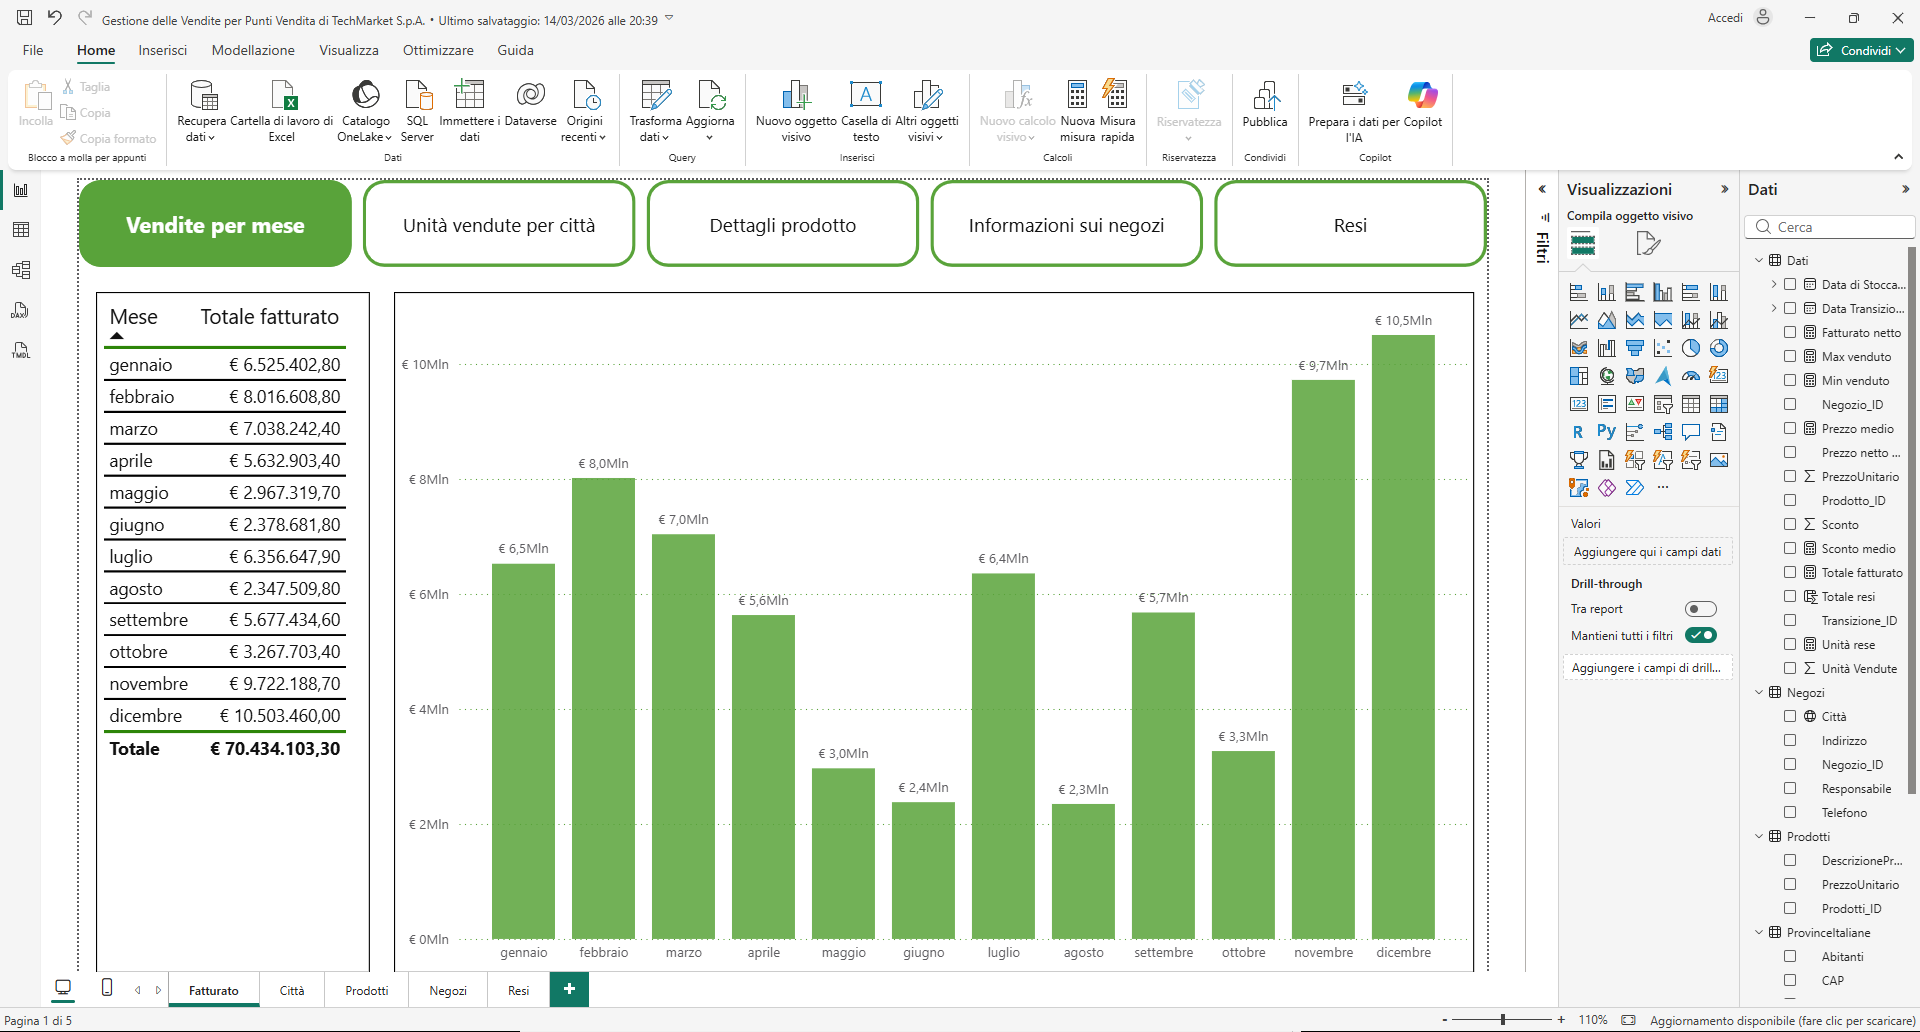

Layout of this report page (visuals, bound fields, positions):
{"tool":"powerbi","page":{"name":"Fatturato","canvas":[1280,720],"ordinal":0},"visuals":[{"type":"tableEx","fields":{"Values":["Dati.Data Transizione.Variazione.Gerarchia data.Mese","Dati.Tot venduto"]},"box":[15.3,101.6,249,619.1],"z":0},{"type":"columnChart","fields":{"Category":["Dati.Data Transizione.Variazione.Gerarchia data.Mese"],"Y":["Dati.Totale fatturato"]},"box":[286.6,101.6,982.3,619.1],"z":1000},{"type":"bookmarkNavigator","box":[0,0,1280,79.3],"z":2000}]}

Visuals, with their boxes on the page's 1280x720 design canvas (x1, y1, x2, y2). These are canvas units, not pixel positions in the 1920x1032 screenshot, which may show the page scaled, cropped or inside an application window:
tableEx - Dati.Data Transizione.Variazione.Gerarchia data.Mese x Dati.Tot venduto: 15,102,264,721
columnChart - Dati.Data Transizione.Variazione.Gerarchia data.Mese x Dati.Totale fatturato: 287,102,1269,721
bookmarkNavigator: 0,0,1280,79
